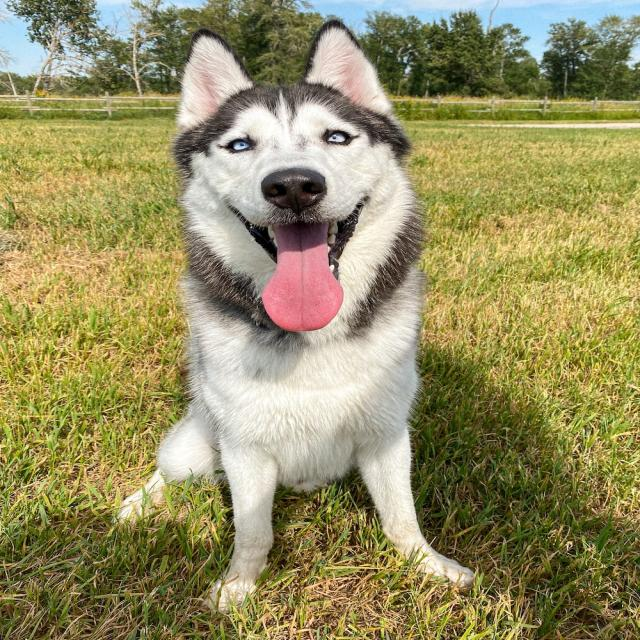husky: (141, 3, 458, 368)
